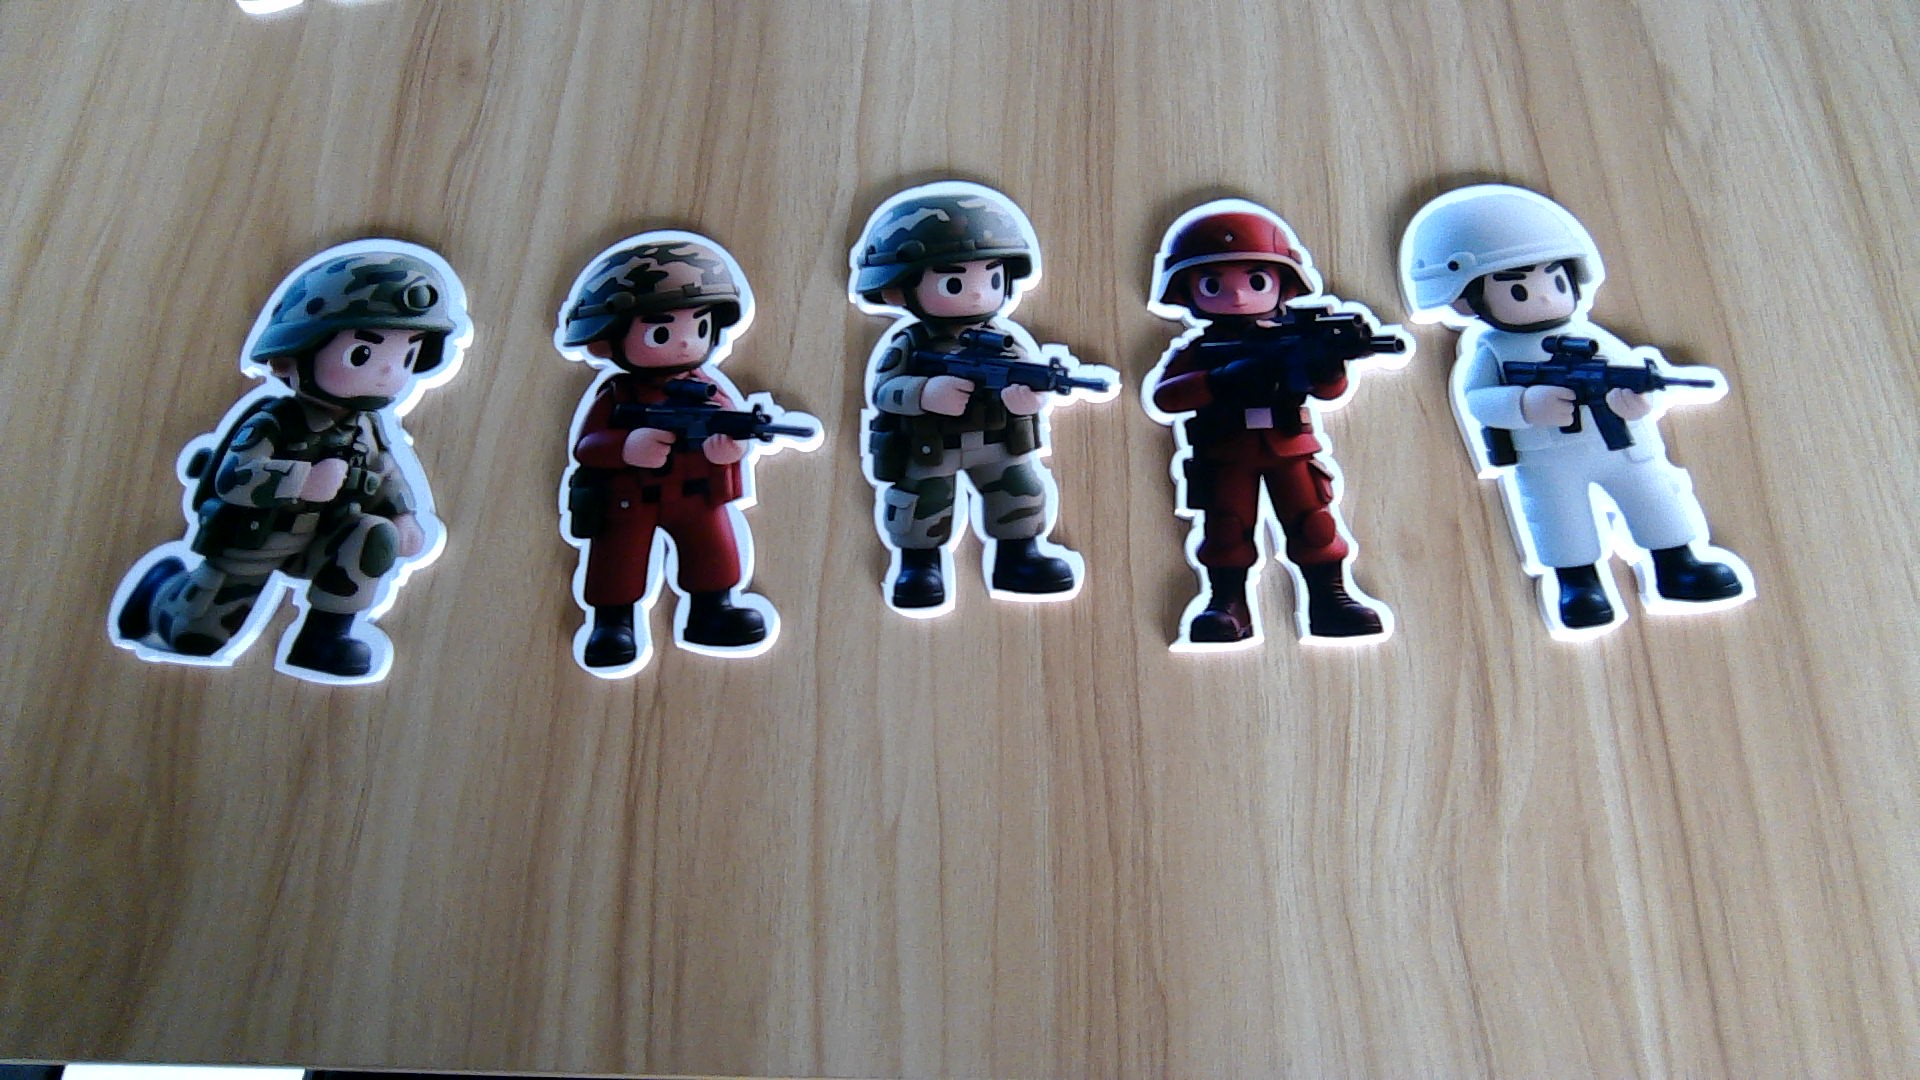人质: (1448, 330, 1775, 640)
友军: (102, 402, 446, 687), (855, 318, 1116, 615)
敌人1: (1139, 309, 1408, 659), (554, 372, 808, 673)
